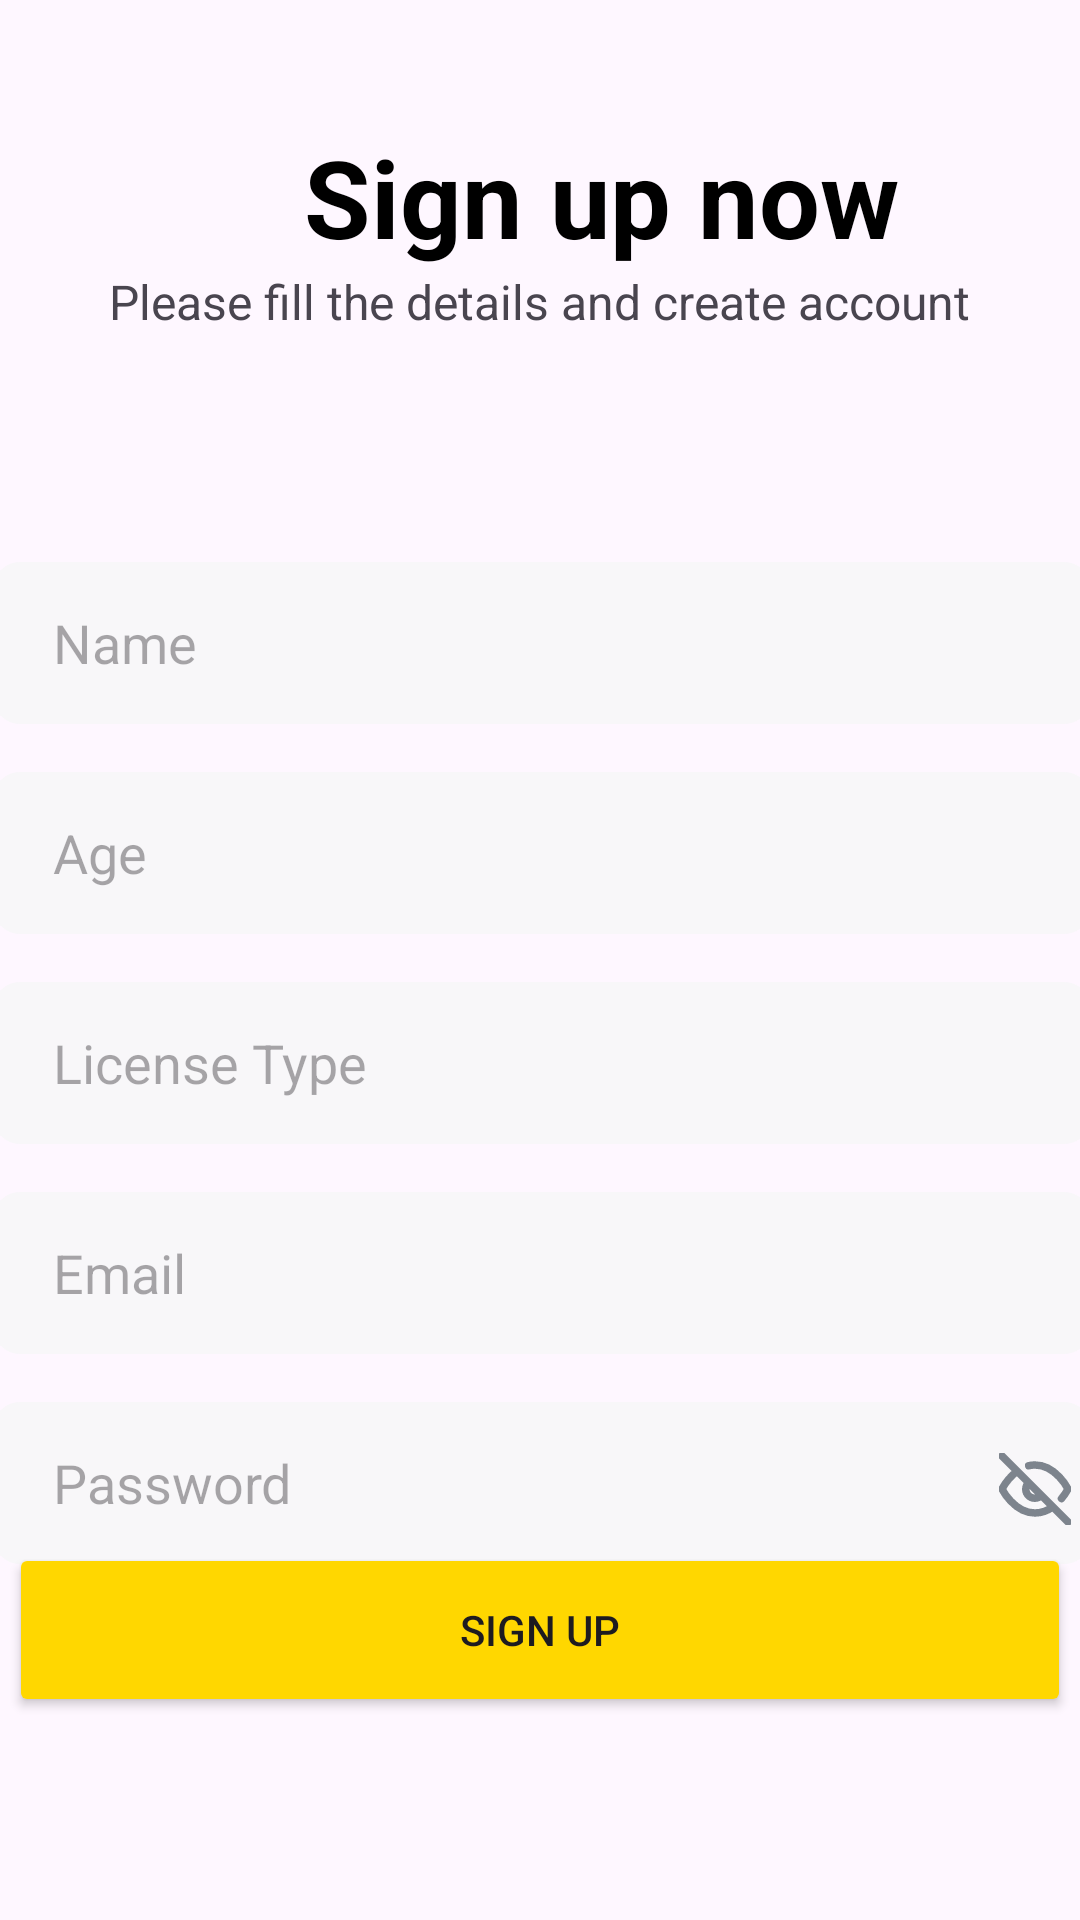

Icons on this 1080 × 1920 Android screen, each with the point to tap as point (x, y):
hidepass: point (1035, 1489)
